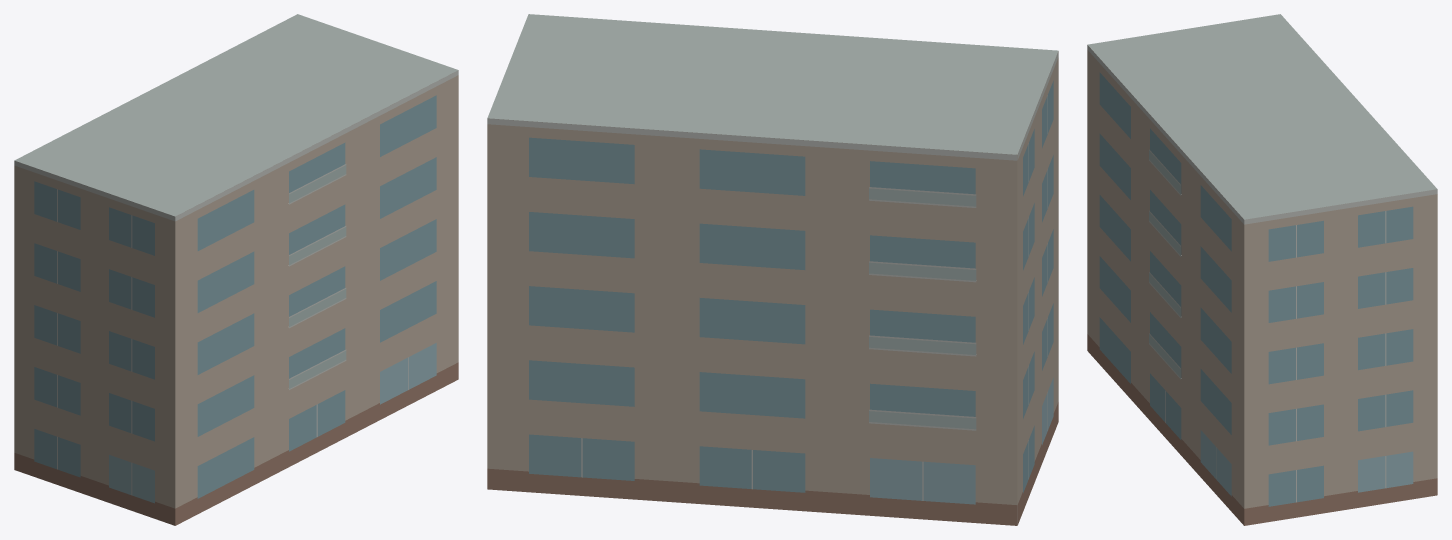
File: survey-upis-32848338.glb
3 renders of one model, left to right at view 1: azimuth 30°, elevation 25°; view 2: azimuth 150°, elevation 25°; view 3: azimuth 270°, elevation 25°, orthographic. The views are drawn at different scales.
Visible parts, largest first — view 1: survey-upis-32848338.tmp; view 2: survey-upis-32848338.tmp; view 3: survey-upis-32848338.tmp.
Boxes of the visible parts, left/top/right/bottom form: survey-upis-32848338.tmp: left=14, top=14, right=458, bottom=525; survey-upis-32848338.tmp: left=487, top=14, right=1058, bottom=525; survey-upis-32848338.tmp: left=1087, top=14, right=1437, bottom=525.
Bounding box in the file's own units: 21.99 × 15.25 × 15.82.
